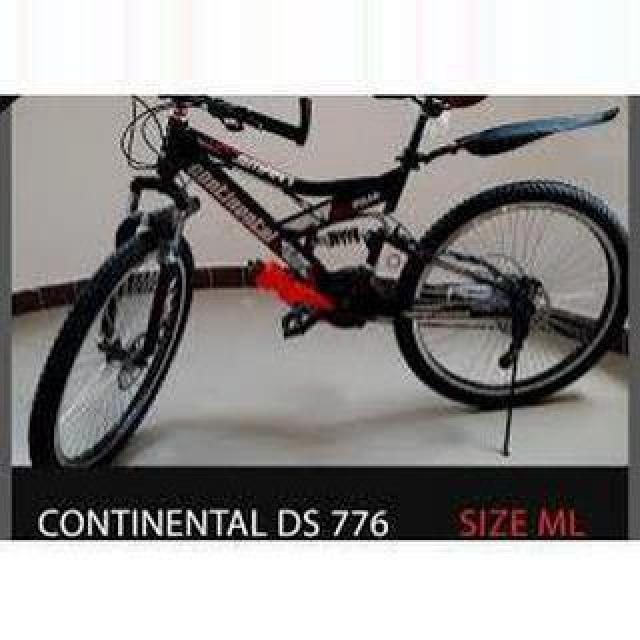Person: (28, 92, 634, 466)
